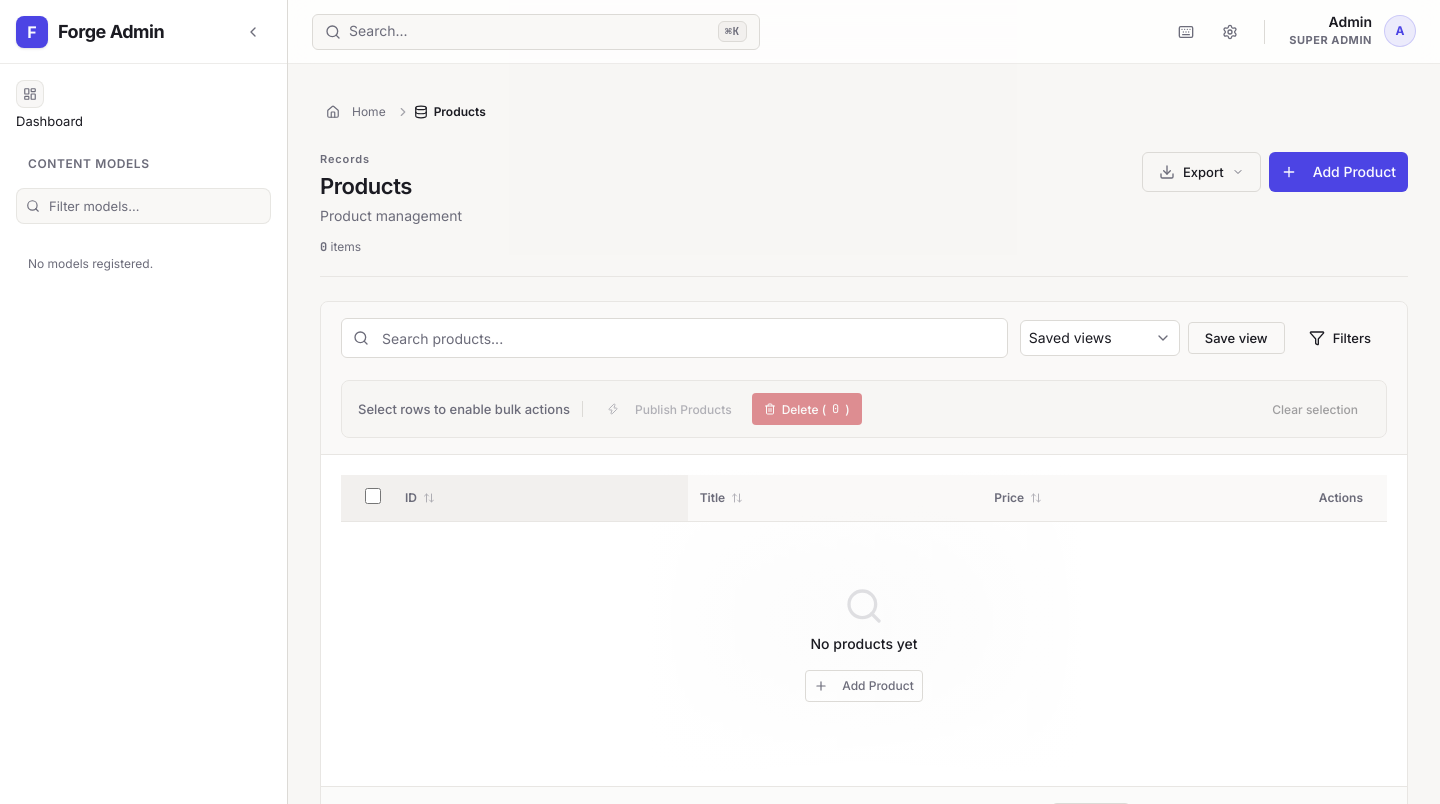
Test case: ModelListPage › offers to clear search and filters when nothing matches
The width and height of the screenshot is (1440, 804).
In the field with test id "search-input": (674, 338) [341,318,1008,358], type "zzz-no-match"
Wait 400 ms
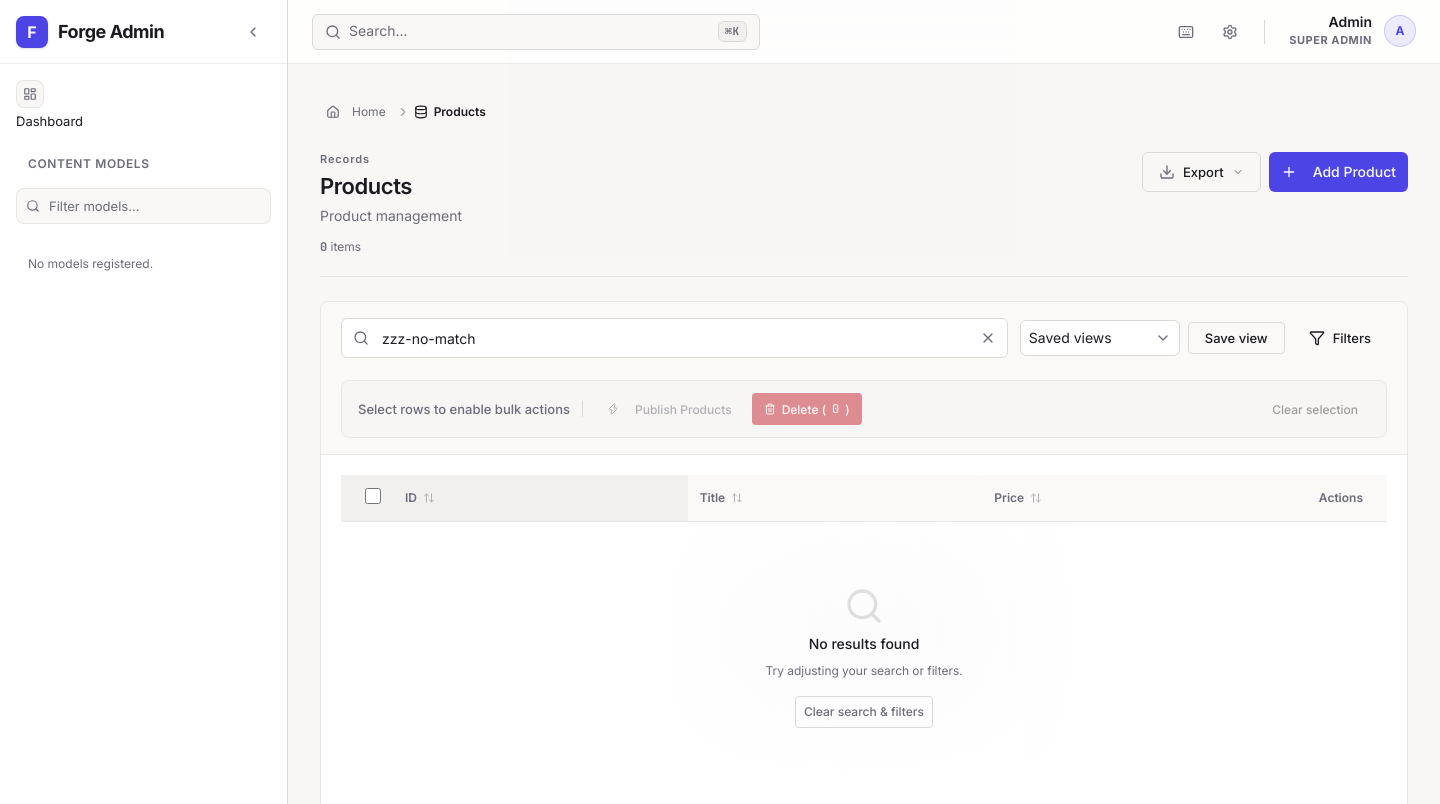
Now the text "No results found" is shown, box [809,634,919,654]
Now the button with test id "clear-filters" is shown, box [795,696,933,728]
